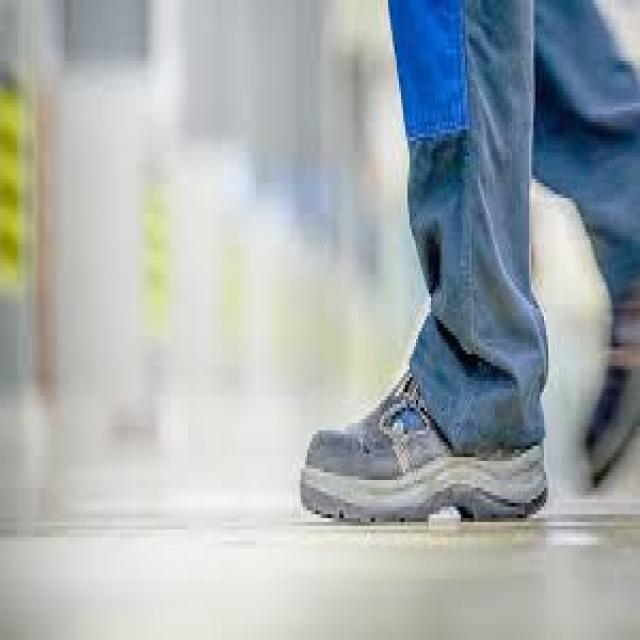shoes: (288, 332, 559, 548), (569, 274, 640, 510)
